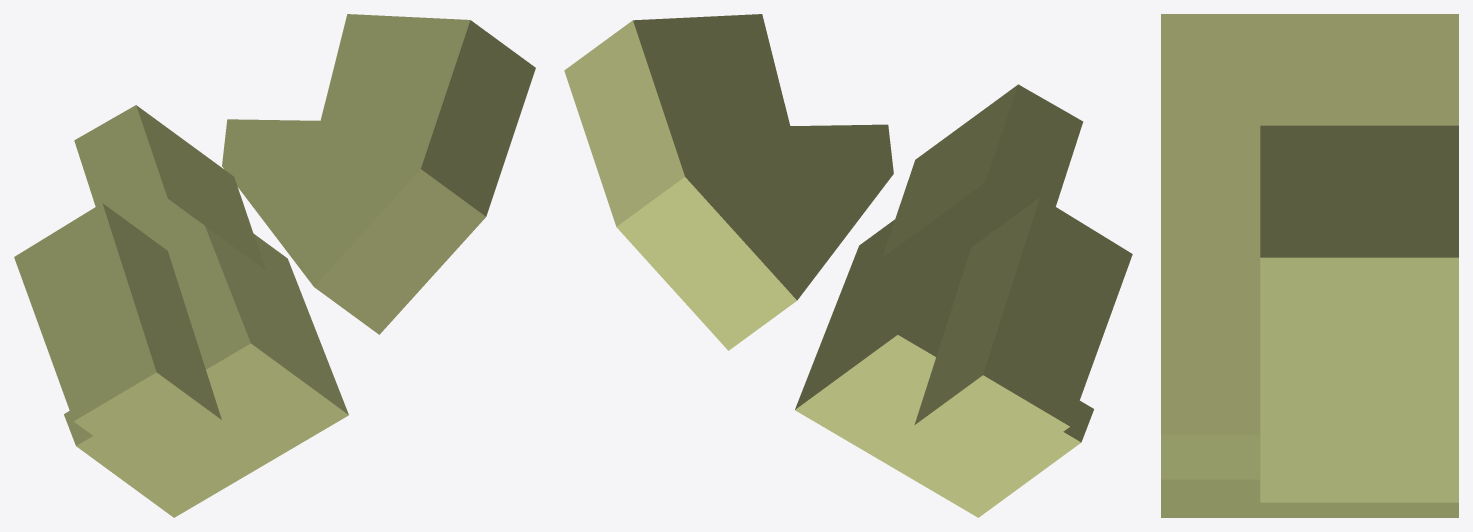
3 renders of one model, left to right at view 1: azimuth 30°, elevation 25°; view 2: azimuth 150°, elevation 25°; view 3: azimuth 270°, elevation 25°, orthographic. The views are drawn at different scales.
Parts seen in each view (by area): view 1: 0_1_0_0_2_1_1_0_3_3; view 2: 0_1_0_0_2_1_1_0_3_3; view 3: 0_1_0_0_2_1_1_0_3_3.
Boxes of the visible parts, x1,y1,x2,y2 form: 0_1_0_0_2_1_1_0_3_3: (14,14,535,517); 0_1_0_0_2_1_1_0_3_3: (564,14,1132,517); 0_1_0_0_2_1_1_0_3_3: (1161,14,1458,517).
Size of the model in its own units: 24.69 by 18.51 by 9.
